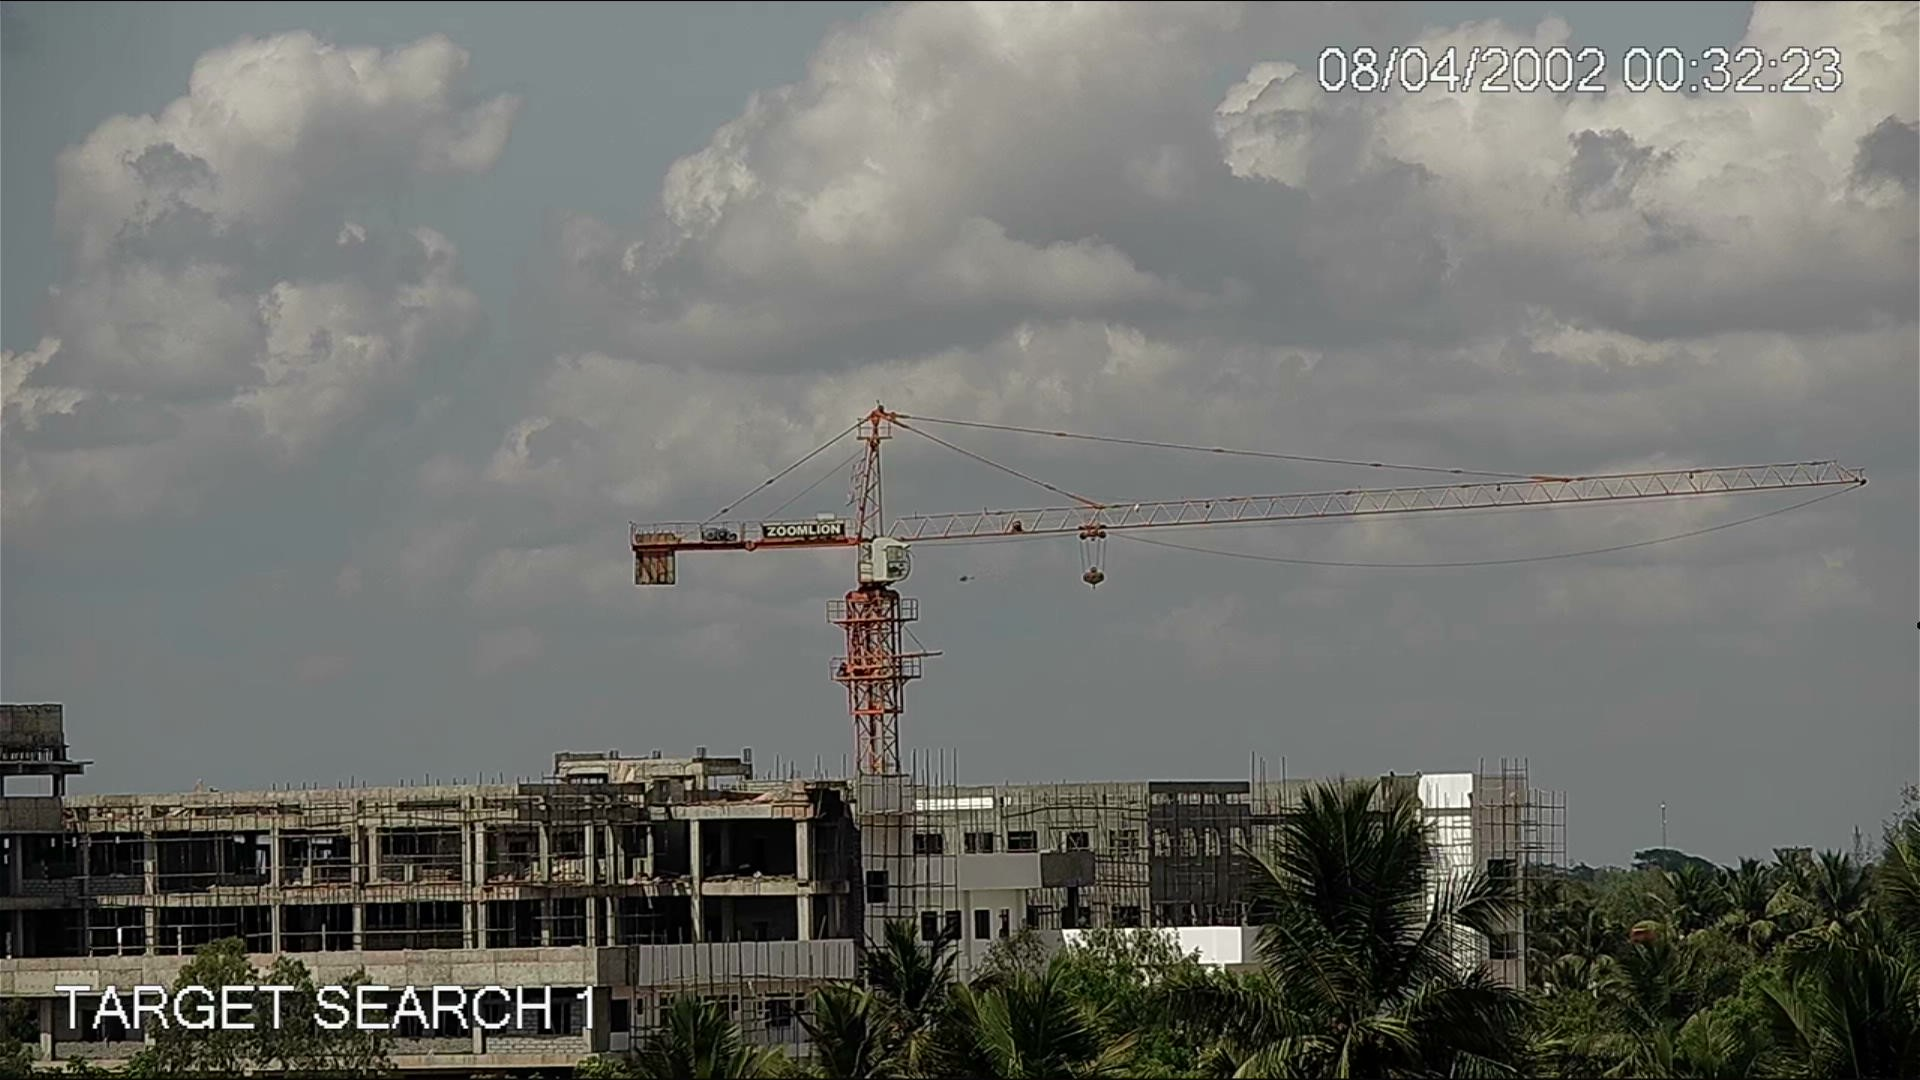SU_30: (955, 574, 978, 584)
